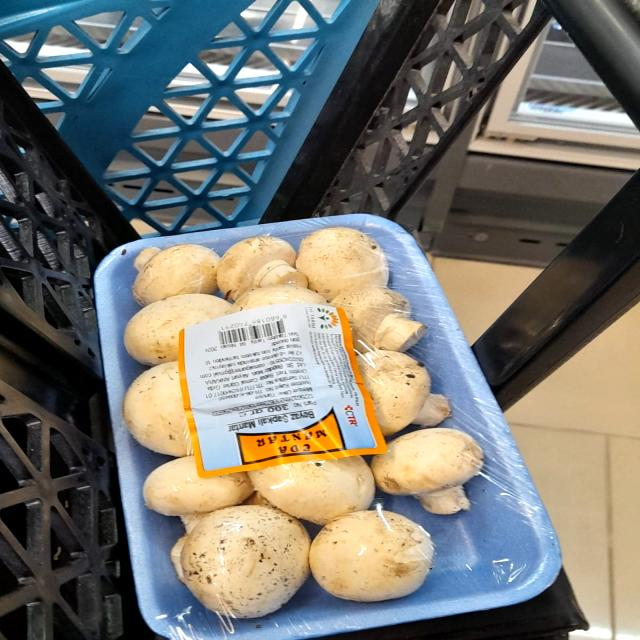mushroom: (160, 496, 315, 617), (375, 417, 496, 517), (315, 511, 432, 601), (334, 274, 446, 359), (209, 221, 312, 300), (123, 237, 220, 309)
